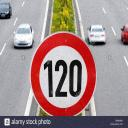speed_limit_120: (29, 30, 98, 116)
